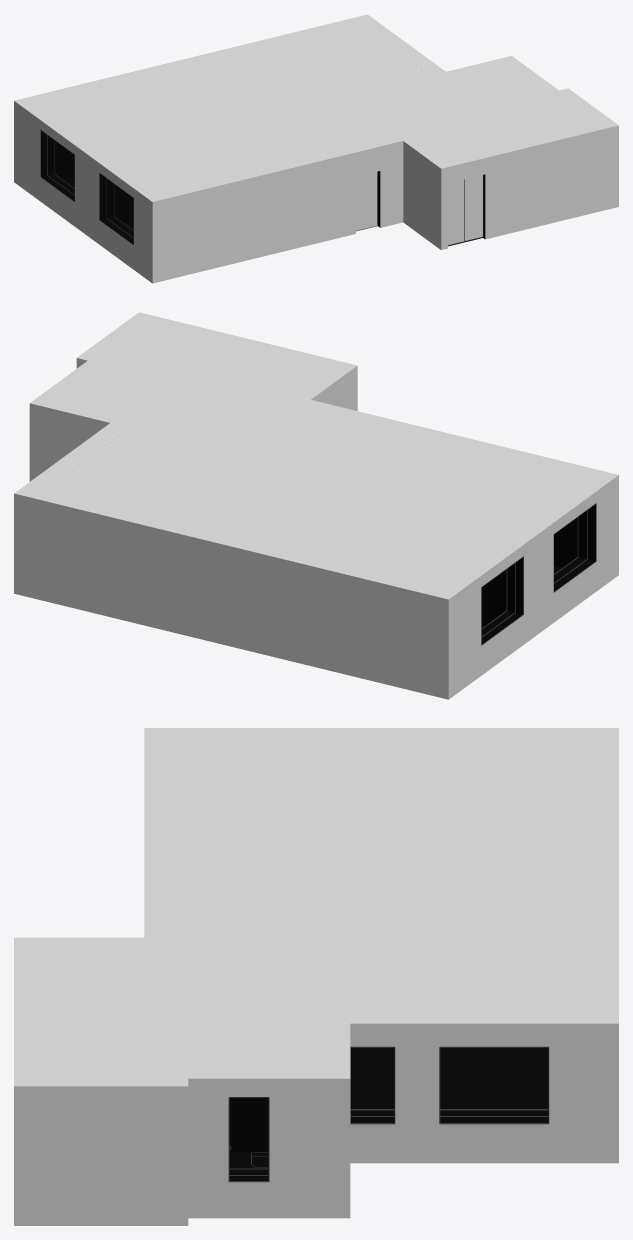
The picture shows the model from 3 angles, top to bottom: view 1: azimuth 30°, elevation 25°; view 2: azimuth 150°, elevation 25°; view 3: azimuth 270°, elevation 25°; orthographic projection. The views are drawn at different scales.
Visible parts, largest first — view 1: Exterior, ceiling, Interior, Doors_Outside; view 2: Exterior, ceiling, Interior; view 3: ceiling, Exterior, Interior, Window_Kitchen.001.
Boxes of the visible parts, box(x1,y1,x2,y2) form: Exterior: box(14, 14, 618, 283); ceiling: box(37, 25, 599, 194); Interior: box(41, 130, 485, 246); Doors_Outside: box(356, 172, 482, 244); Exterior: box(14, 312, 618, 699); ceiling: box(46, 319, 593, 586); Interior: box(481, 504, 595, 644); ceiling: box(21, 739, 586, 1072); Exterior: box(14, 728, 618, 1225); Interior: box(229, 1047, 548, 1181); Window_Kitchen.001: box(439, 1046, 549, 1124).
Bounding box in the file's own units: 15.87 × 2.89 × 11.32.
Materials: 3 (1 with a texture image).
